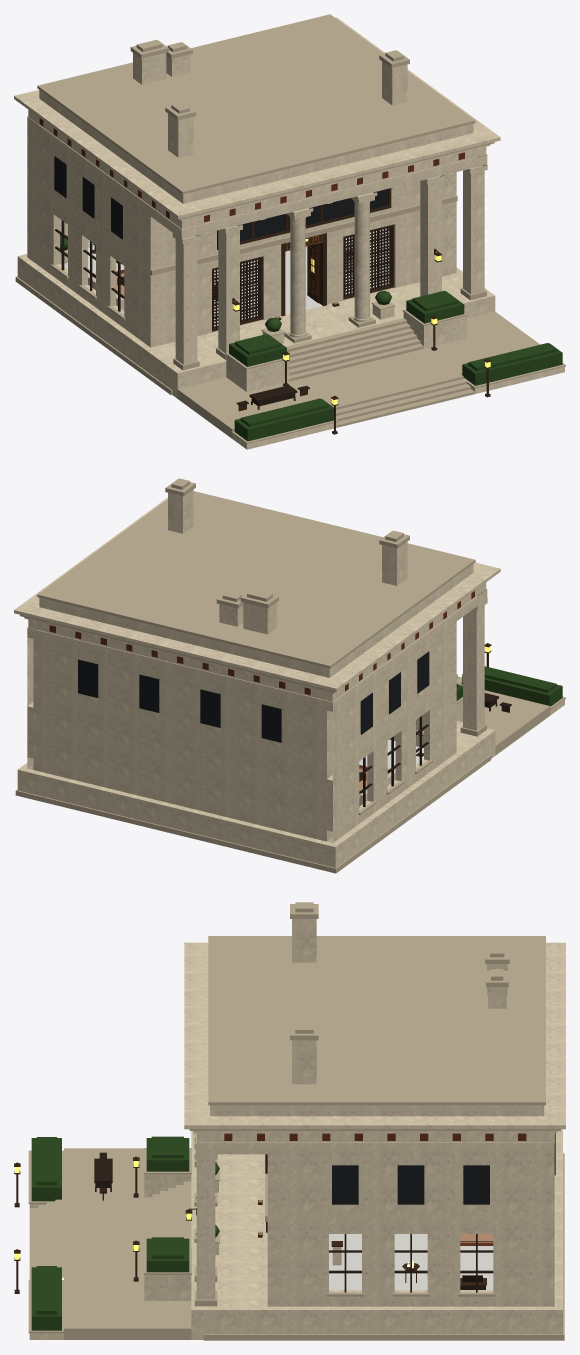
Rendered from greco_house.glb.
3 renders of one model, top to bottom at view 1: azimuth 30°, elevation 25°; view 2: azimuth 150°, elevation 25°; view 3: azimuth 270°, elevation 25°, orthographic. The views are drawn at different scales.
Visible parts, largest first — view 1: greco_house; view 2: greco_house; view 3: greco_house.
Part boxes in pixels (<box>): greco_house: <box>14,14,565,449</box>; greco_house: <box>14,478,565,873</box>; greco_house: <box>14,902,565,1340</box>.
Bounding box in the file's own units: 21.1 × 15.25 × 26.91.
Materials: 15 (2 with a texture image).
